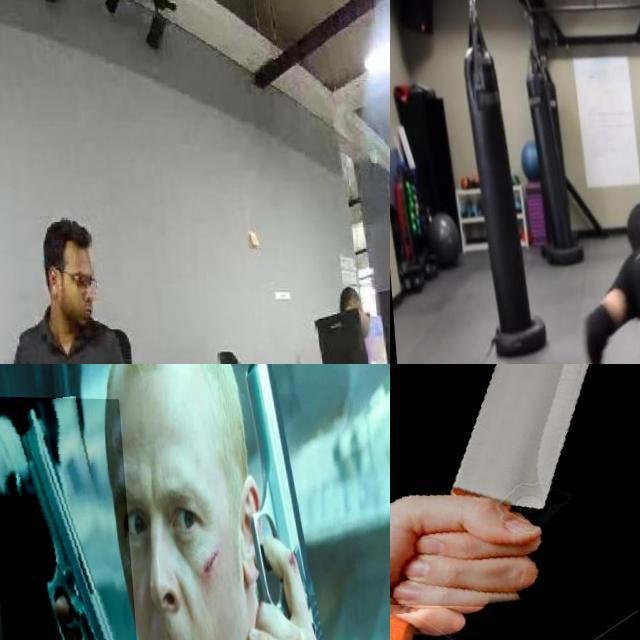-: (390, 364, 640, 609)
gun-knife-thesis - v11 Yolov5 augmented: (199, 364, 337, 640), (0, 395, 141, 640)
